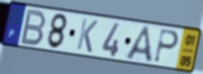4: (100, 21, 121, 60)
8: (46, 12, 69, 51)
A: (123, 24, 154, 65)
B: (19, 8, 48, 48)
K: (75, 17, 100, 55)
P: (153, 28, 181, 66)
